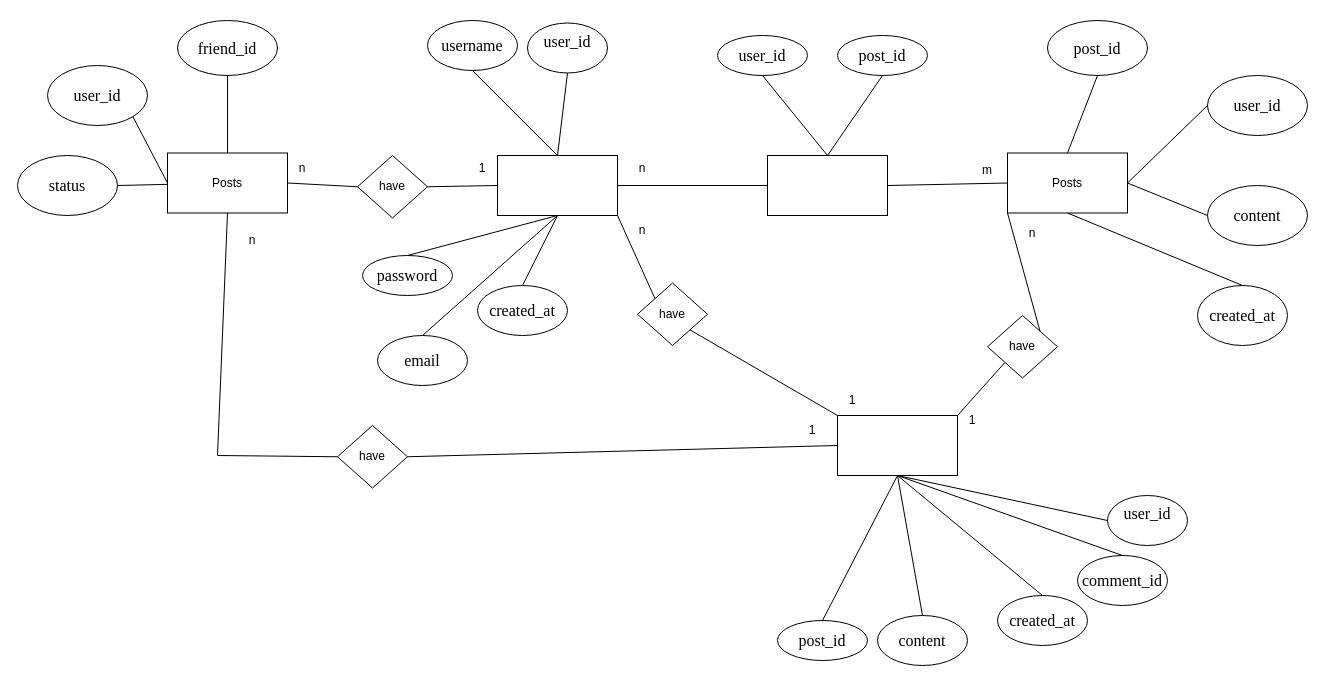
Image size: 1325x683. Some labels were removed from this diagram. The shapes that lost their labels are listed below. From the top down, each one's centre as x and y in pixels, then its label:
At point 557,185: "Users".
At point 827,185: "Likes".
At point 897,445: "Comments".
